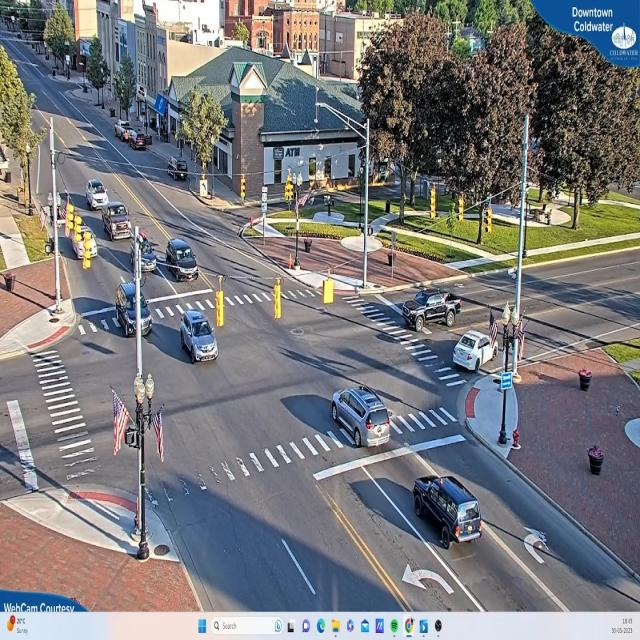car: (411, 474, 483, 546), (332, 387, 394, 449), (401, 292, 462, 332), (176, 307, 220, 362), (165, 238, 198, 282), (102, 204, 132, 240), (85, 180, 109, 211)
